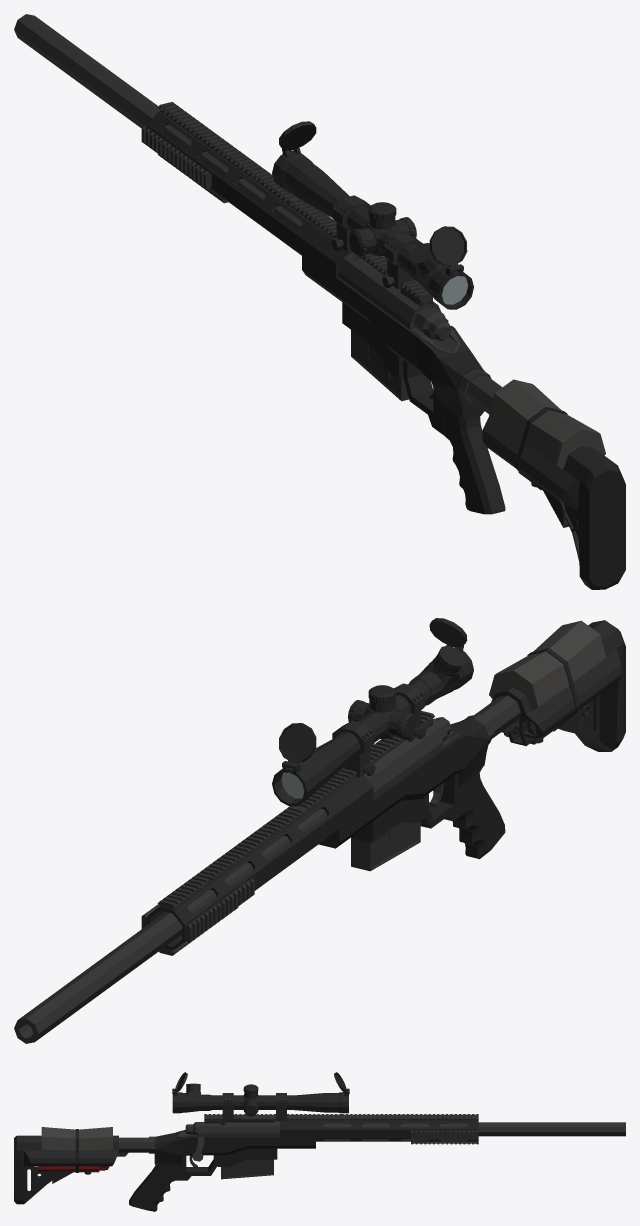
The model's file is MSR.glb.
The picture shows the model from 3 angles, top to bottom: view 1: azimuth 30°, elevation 25°; view 2: azimuth 150°, elevation 25°; view 3: azimuth 270°, elevation 25°; orthographic projection. The views are drawn at different scales.
Visible parts, largest first — view 1: Stock_Sopmod, Body_Chasis, Barrel, Handguard, Cheek_Pad, Scope_Leupold, grip_RDE, Bolt_Assembly, Rail_Top_Extension, Rail_Top, Magazine_Standard, Rail_Side_Left (+5 smaller); view 2: Stock_Sopmod, Barrel, Body_Chasis, Handguard, Cheek_Pad, Scope_Leupold, grip_RDE, Rail_Top_Extension, Bolt_Assembly, Magazine_Standard, Rail_Top, Rail_Side_Left (+7 smaller); view 3: Body_Chasis, Handguard, Stock_Sopmod, Barrel, Scope_Leupold, Cheek_Pad, grip_RDE, bolt, Rail_Top_Extension, Rail_Top, Magazine_Standard, Bolt_Assembly (+6 smaller).
Boxes of the visible parts, left/top/right/bottom form: Stock_Sopmod: left=482, top=416, right=625, bottom=589; Body_Chasis: left=302, top=255, right=484, bottom=435; Barrel: left=14, top=14, right=302, bottom=229; Handguard: left=147, top=111, right=351, bottom=279; Cheek_Pad: left=489, top=379, right=605, bottom=469; Scope_Leupold: left=282, top=159, right=472, bottom=308; grip_RDE: left=444, top=408, right=505, bottom=514; Bolt_Assembly: left=338, top=252, right=460, bottom=354; Rail_Top_Extension: left=158, top=102, right=297, bottom=205; Rail_Top: left=288, top=198, right=432, bottom=310; Magazine_Standard: left=351, top=330, right=408, bottom=401; Rail_Side_Left: left=141, top=126, right=211, bottom=189; Stock_Sopmod: left=491, top=620, right=625, bottom=751; Barrel: left=14, top=808, right=326, bottom=1043; Body_Chasis: left=319, top=718, right=489, bottom=848; Handguard: left=147, top=775, right=373, bottom=949; Cheek_Pad: left=489, top=620, right=605, bottom=710; Scope_Leupold: left=273, top=663, right=463, bottom=805; grip_RDE: left=452, top=773, right=505, bottom=859; Rail_Top_Extension: left=157, top=806, right=304, bottom=910; Bolt_Assembly: left=364, top=725, right=460, bottom=798; Magazine_Standard: left=351, top=821, right=420, bottom=871; Rail_Top: left=293, top=710, right=434, bottom=814; Rail_Side_Left: left=184, top=878, right=254, bottom=942; Body_Chasis: left=154, top=1130, right=315, bottom=1180; Handguard: left=280, top=1120, right=478, bottom=1141; Stock_Sopmod: left=14, top=1135, right=118, bottom=1204; Barrel: left=323, top=1122, right=625, bottom=1136; Scope_Leupold: left=172, top=1093, right=338, bottom=1112; Cheek_Pad: left=41, top=1127, right=112, bottom=1150; grip_RDE: left=129, top=1164, right=174, bottom=1211; bolt: left=185, top=1122, right=274, bottom=1161; Rail_Top_Extension: left=341, top=1114, right=478, bottom=1120; Rail_Top: left=204, top=1114, right=341, bottom=1125; Magazine_Standard: left=221, top=1159, right=273, bottom=1179; Bolt_Assembly: left=175, top=1120, right=279, bottom=1144.
Size of the model in its own units: 0.0575 by 0.2256 by 0.9126.
7 materials, 7 textured.
